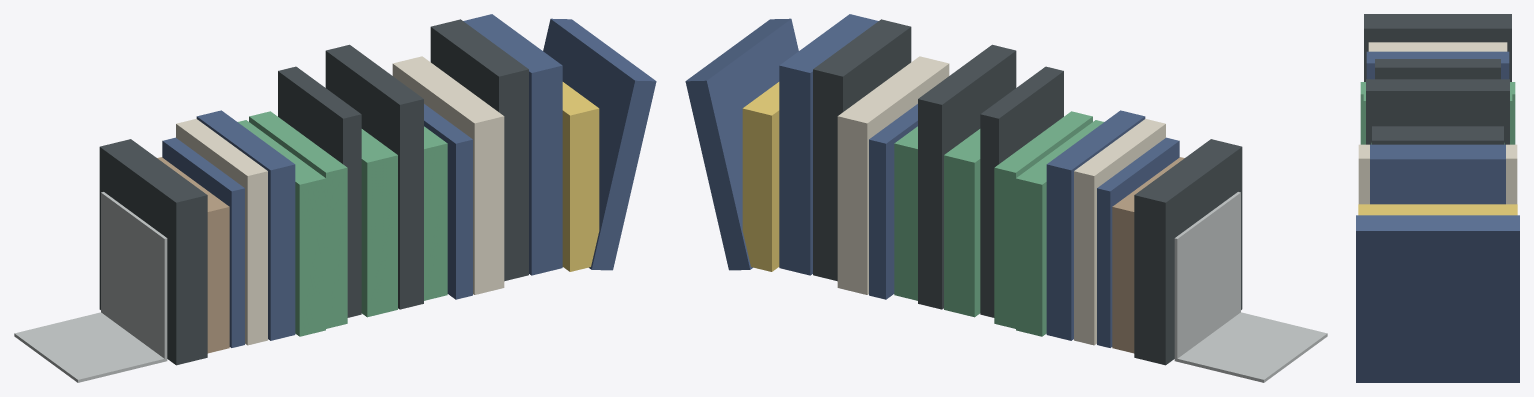
File: book_set.fbx
3 views of the same model, side by side, from view 1: azimuth 30°, elevation 25°; view 2: azimuth 150°, elevation 25°; view 3: azimuth 270°, elevation 25° (orthographic). The views are drawn at different scales.
Parts seen in each view (by area): view 1: book_set; view 2: book_set; view 3: book_set.
Boxes of the visible parts, left/top/right/bottom form: book_set: left=14, top=14, right=656, bottom=382; book_set: left=685, top=14, right=1327, bottom=382; book_set: left=1356, top=14, right=1519, bottom=382.
Bounding box in the file's own units: 77.42 × 27.82 × 20.
